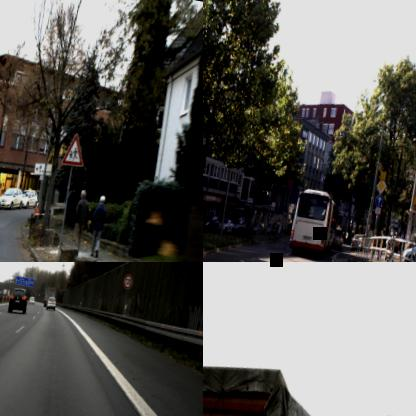SCHOOL CROSSING: (60, 130, 88, 168)
go straight: (374, 193, 384, 208)
priority road: (374, 177, 387, 194)
speed limit 120: (122, 272, 134, 290)
